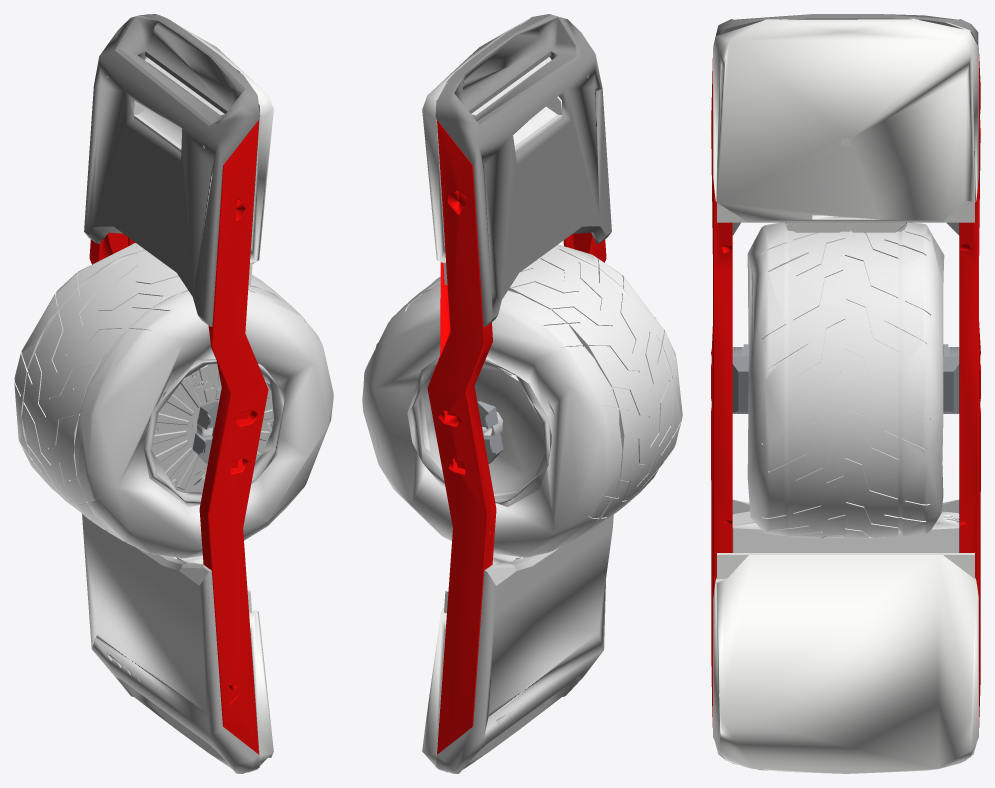
Rendered from x7_board.glb.
3 views of the same model, side by side, from view 1: azimuth 30°, elevation 25°; view 2: azimuth 150°, elevation 25°; view 3: azimuth 270°, elevation 25° (orthographic). The views are drawn at different scales.
Visible parts, largest first — view 1: QDIY Thunder tire rough cad-1, Pjötr diy front DANG bumper model-1, X7 rail Left-1, qdiy rear dang bumper final touches needed-1, Superflux-1, 2025-09-29_stompie_front-2, qdiy stompie rear-1, V1 qdiy fungineers funwheel X7 Front Controller Box SOLIDWOR, New Mount SF-2, X7 rail Right-1; view 2: QDIY Thunder tire rough cad-1, Pjötr diy front DANG bumper model-1, X7 rail Right-1, qdiy rear dang bumper final touches needed-1, Superflux-1, 2025-09-29_stompie_front-2, qdiy stompie rear-1, V1 qdiy fungineers funwheel X7 Front Controller Box SOLIDWOR, New Mount SF-1, X7 rail Left-1; view 3: QDIY Thunder tire rough cad-1, qdiy stompie rear-1, 2025-09-29_stompie_front-2, X7 rail Right-1, X7 rail Left-1, fungineers x VOW blackbox lid-1, Pjötr diy front DANG bumper model-1, Fungi lid for controller box-1, New Mount SF-2, New Mount SF-1, qdiy rear dang bumper final touches needed-1, qdiy x7 blackbox-1.
Part boxes in pixels (box(x1,y1,x2,y2)): QDIY Thunder tire rough cad-1: box(14, 243, 333, 558); Pjötr diy front DANG bumper model-1: box(84, 14, 260, 326); X7 rail Left-1: box(199, 120, 268, 754); qdiy rear dang bumper final touches needed-1: box(82, 513, 259, 773); Superflux-1: box(143, 358, 285, 506); 2025-09-29_stompie_front-2: box(144, 14, 273, 284); qdiy stompie rear-1: box(247, 589, 273, 765); V1 qdiy fungineers funwheel X7 Front Controller Box SOLIDWOR: box(134, 57, 224, 152); New Mount SF-2: box(192, 401, 219, 463); X7 rail Right-1: box(89, 232, 135, 264); QDIY Thunder tire rough cad-1: box(362, 244, 682, 557); Pjötr diy front DANG bumper model-1: box(435, 14, 611, 326); X7 rail Right-1: box(427, 120, 496, 754); qdiy rear dang bumper final touches needed-1: box(436, 515, 613, 773); Superflux-1: box(407, 357, 551, 506); 2025-09-29_stompie_front-2: box(422, 18, 530, 284); qdiy stompie rear-1: box(422, 589, 448, 768); V1 qdiy fungineers funwheel X7 Front Controller Box SOLIDWOR: box(471, 57, 561, 151); New Mount SF-1: box(477, 401, 503, 463); X7 rail Left-1: box(563, 232, 606, 262); QDIY Thunder tire rough cad-1: box(747, 222, 944, 538); qdiy stompie rear-1: box(713, 553, 978, 773); 2025-09-29_stompie_front-2: box(713, 18, 978, 222); X7 rail Right-1: box(959, 54, 980, 727); X7 rail Left-1: box(711, 58, 732, 727); fungineers x VOW blackbox lid-1: box(732, 522, 959, 552); Pjötr diy front DANG bumper model-1: box(713, 14, 978, 235); Fungi lid for controller box-1: box(785, 138, 906, 232); New Mount SF-2: box(732, 344, 748, 413); New Mount SF-1: box(943, 344, 959, 413); qdiy rear dang bumper final touches needed-1: box(715, 499, 976, 770); qdiy x7 blackbox-1: box(732, 511, 959, 525).
Size of the model in its own units: 0.2893 by 0.7561 by 0.2447.
